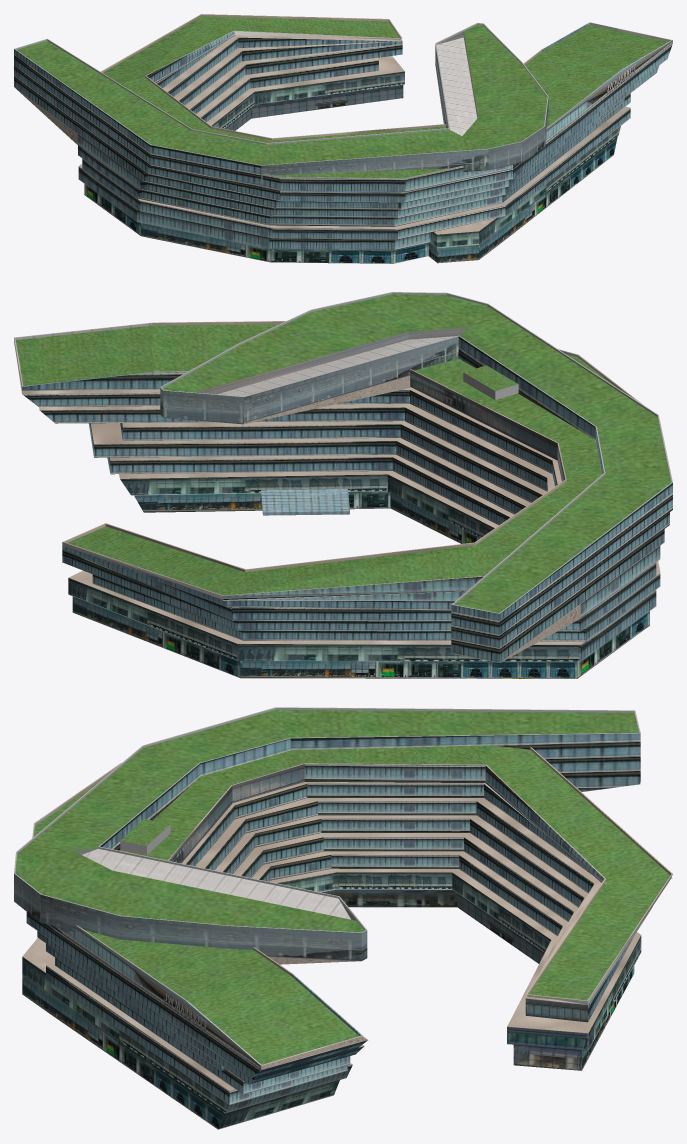
3 renders of one model, top to bottom at view 1: azimuth 30°, elevation 25°; view 2: azimuth 150°, elevation 25°; view 3: azimuth 270°, elevation 25°, orthographic. The views are drawn at different scales.
Visible parts, largest first — view 1: 5dd651247072cc1bd409fcce; view 2: 5dd651247072cc1bd409fcce; view 3: 5dd651247072cc1bd409fcce.
Boxes of the visible parts, x1,y1,x2,y2 form: 5dd651247072cc1bd409fcce: [14, 14, 672, 263]; 5dd651247072cc1bd409fcce: [14, 292, 672, 678]; 5dd651247072cc1bd409fcce: [14, 707, 672, 1129].
Bounding box in the file's own units: 179 × 36.69 × 149.
1 material, 1 textured.
